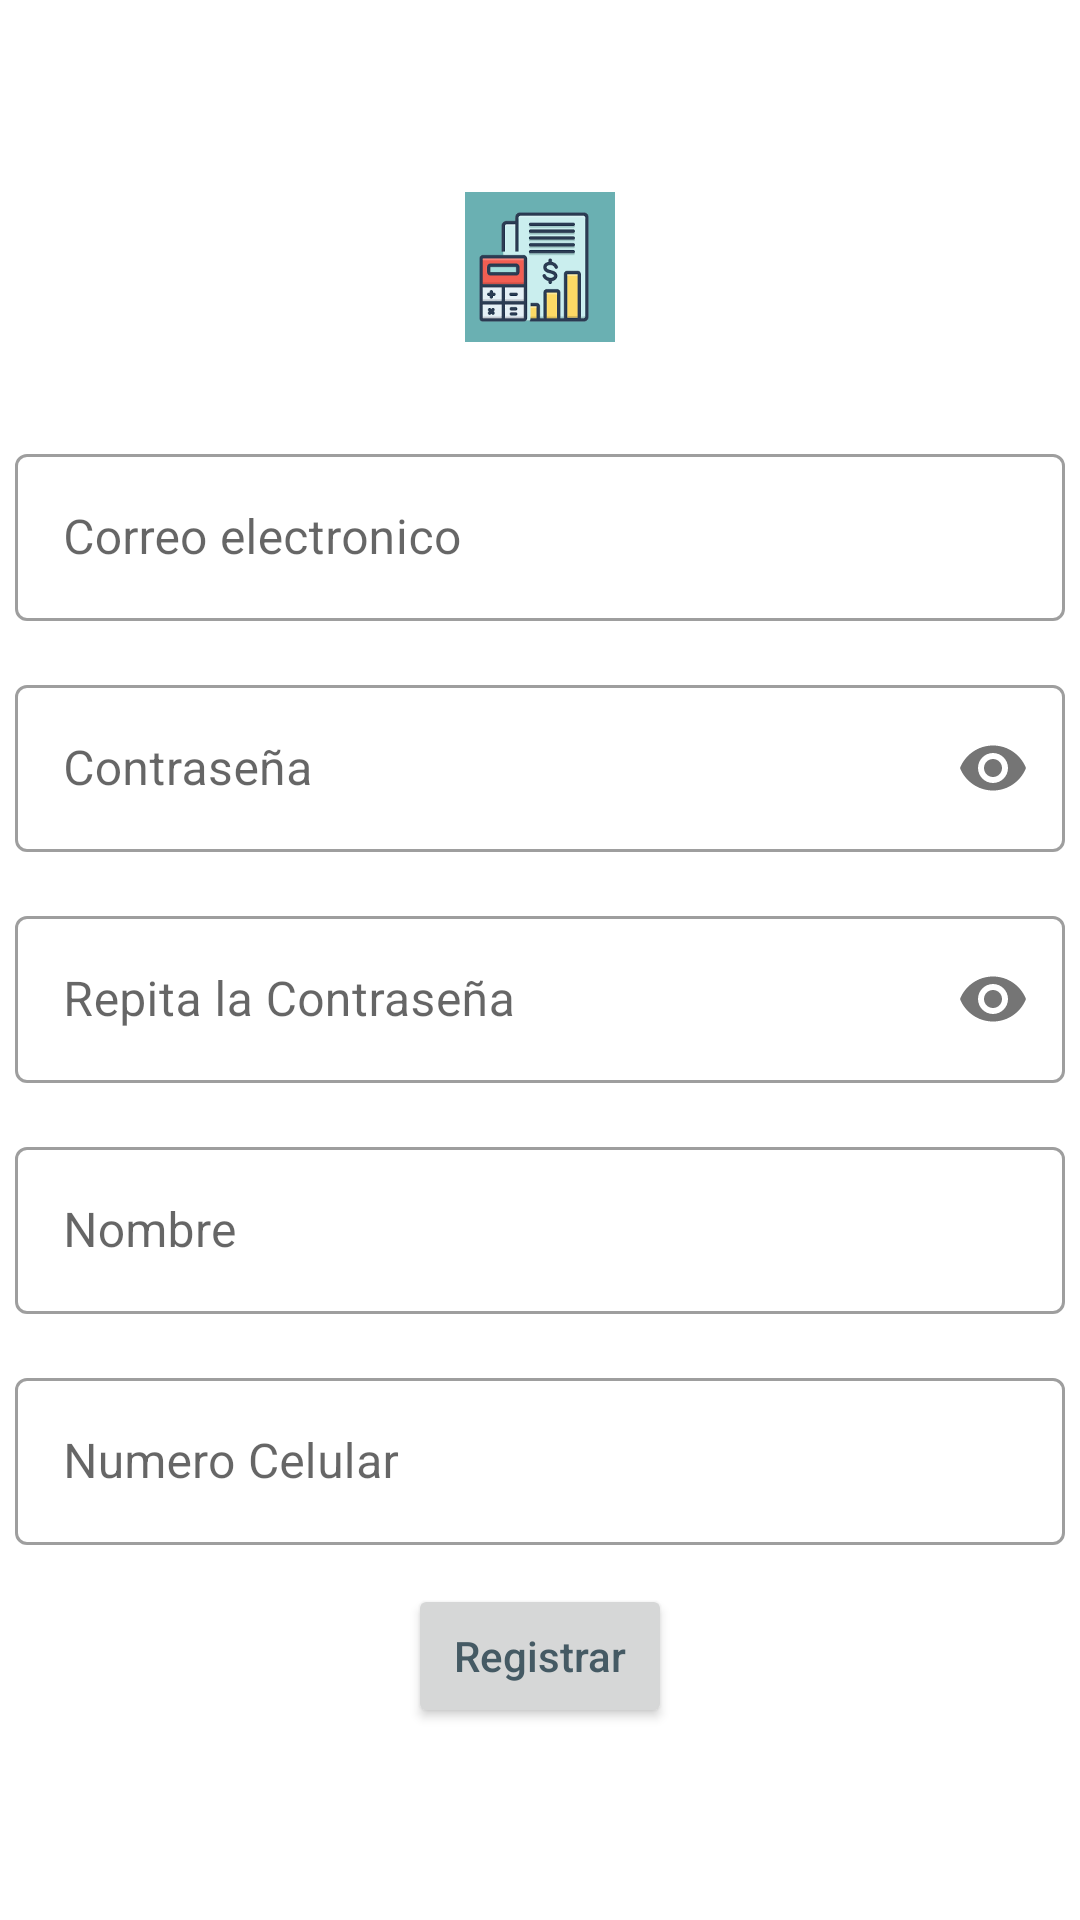

Screen size 1080x1920. Icon name, then its center in pixels as (x=x, y=y):
contability: (x=540, y=267)
